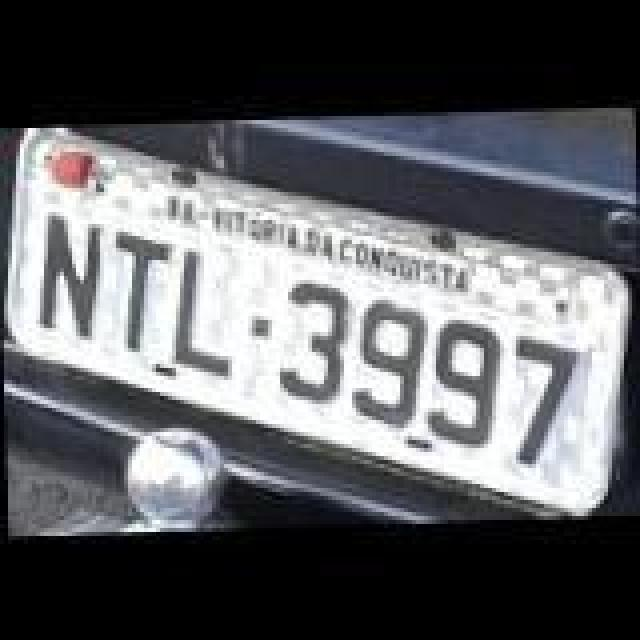3: (268, 266, 356, 406)
7: (502, 324, 586, 476)
9: (420, 314, 508, 454), (348, 292, 428, 436)
L: (158, 240, 250, 384)
N: (34, 202, 110, 342)
T: (98, 218, 174, 358)
